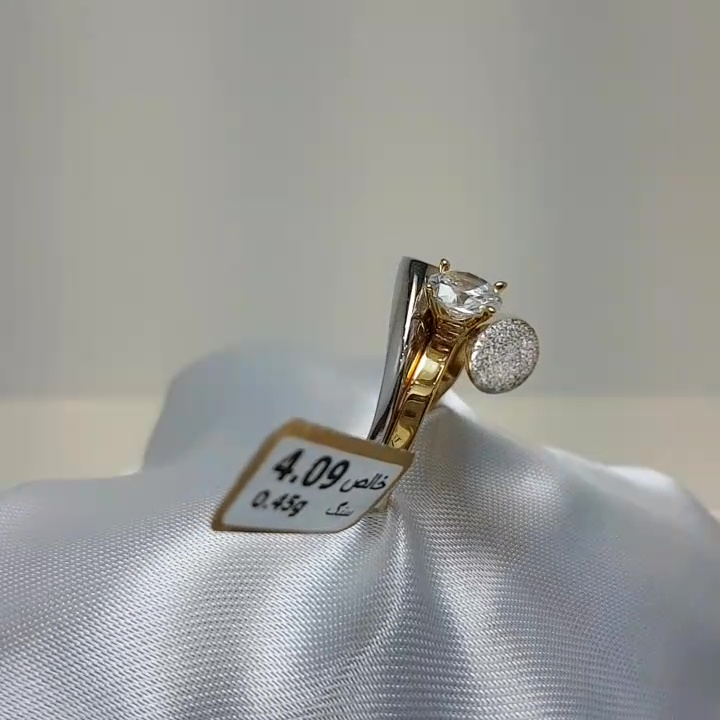Ring 7: (316, 239, 553, 529)
